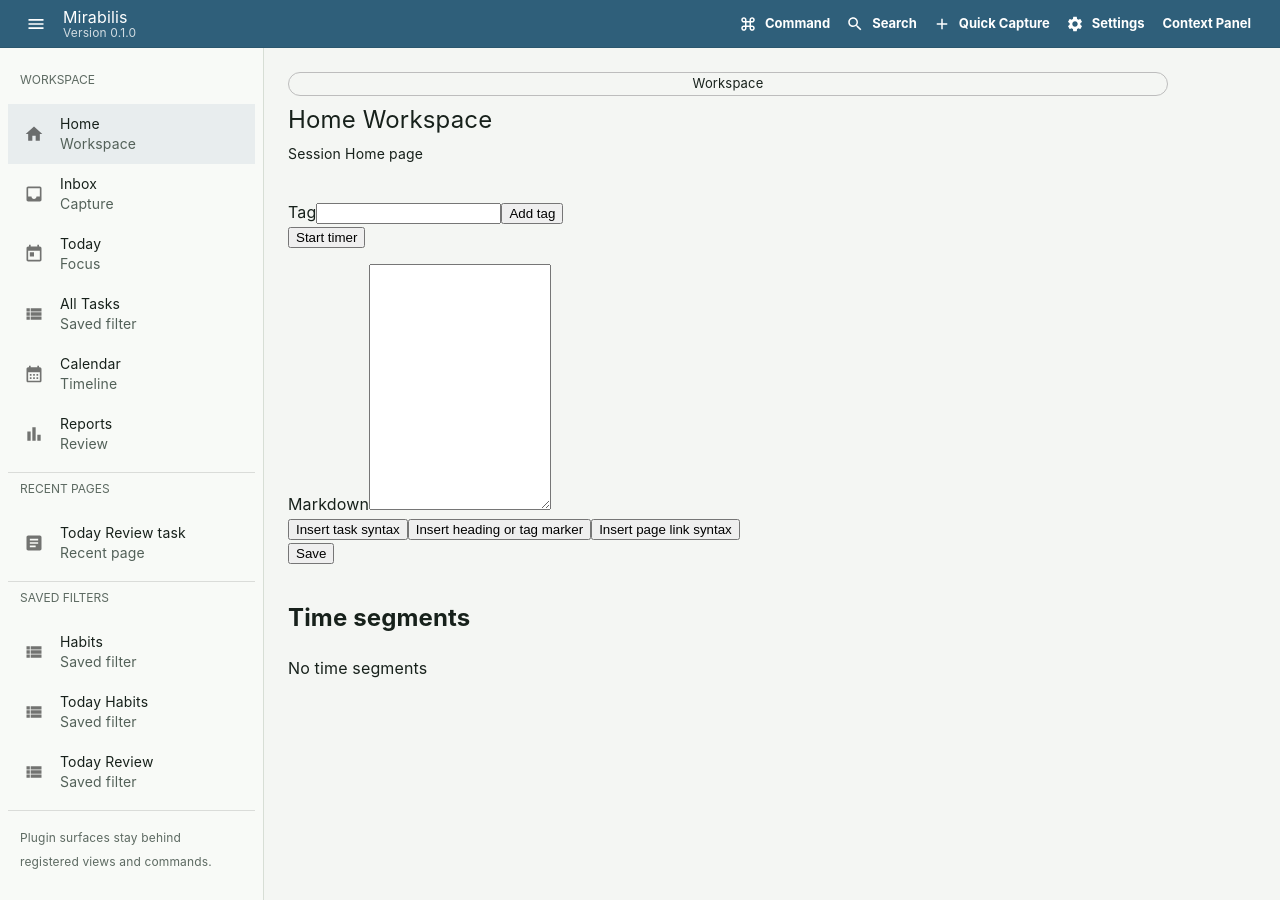
Test: TASK-038 sidebar page and saved-filter navigation › lets visible saved filter labels be used as their accessible names
Click the button "Today Review Saved filter" at (89, 772), box [24,753,154,790]
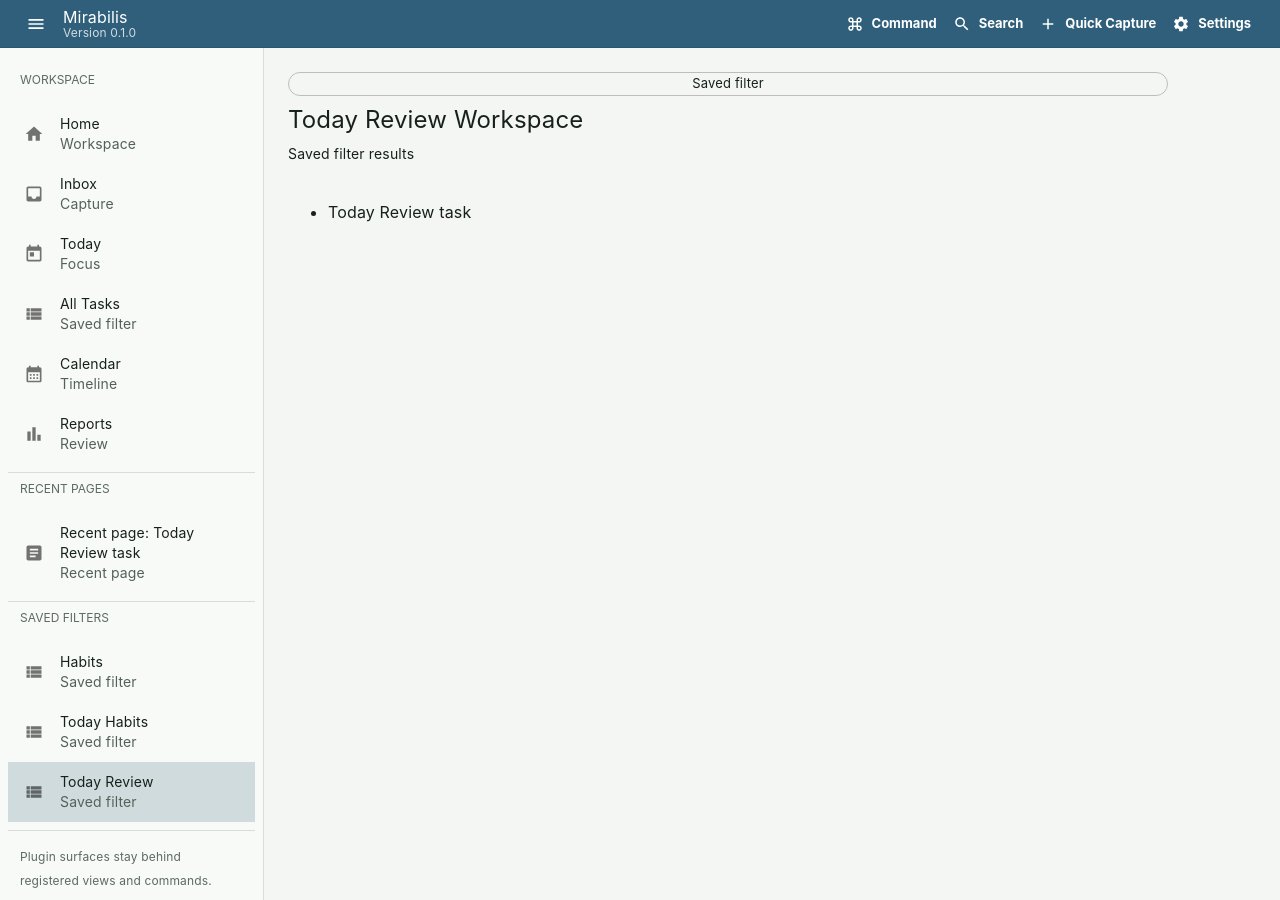
Expected: the list item "Today Review task" is shown, [328,202,471,222]
